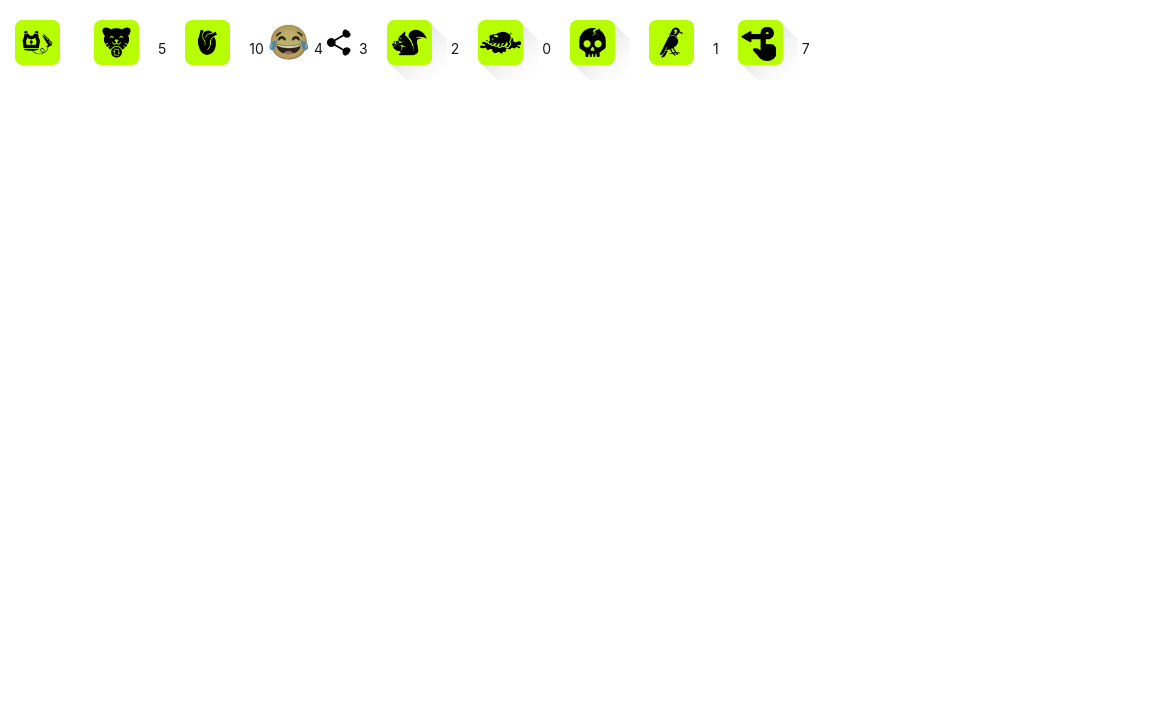
Test: PostActions › closes slop modal when backdrop is clicked
Click the button titled "Mark as Slop" at (501, 42), box [463,5,538,80]
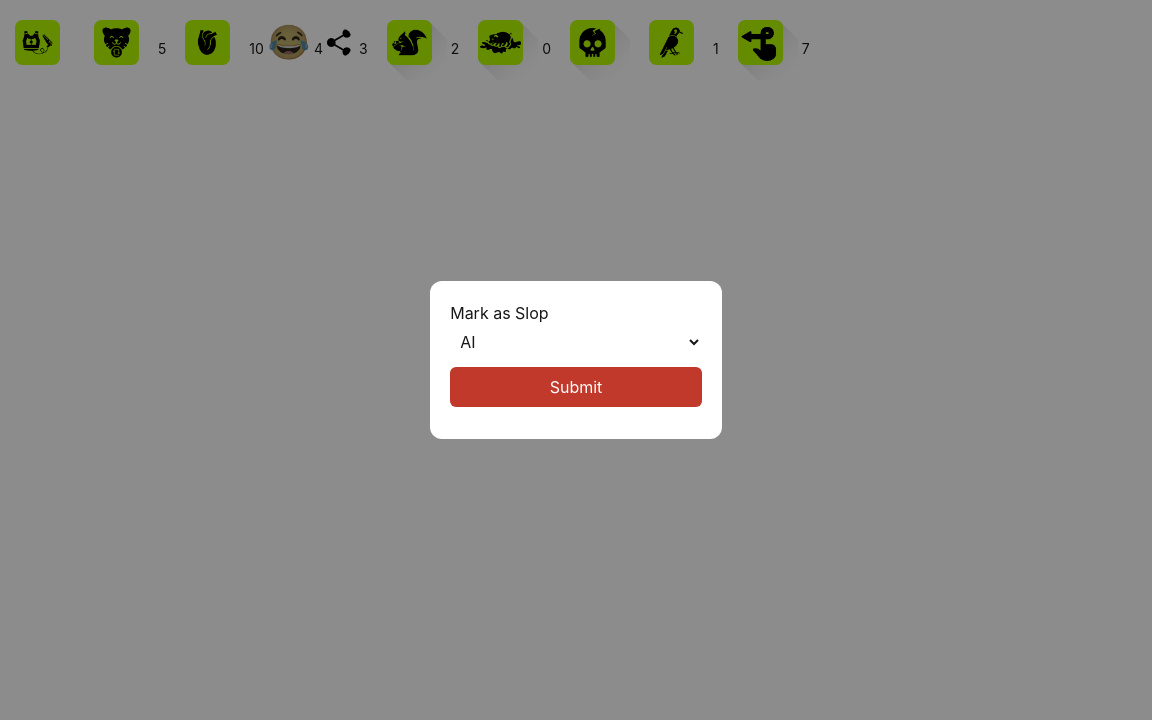
Expected: the heading "Mark as Slop" is shown, [450,303,549,323]
// Click the backdrop (the outer fixed div)
Press the mouse on the text "Mark as Slop" at (576, 360), box [0,0,1151,719]
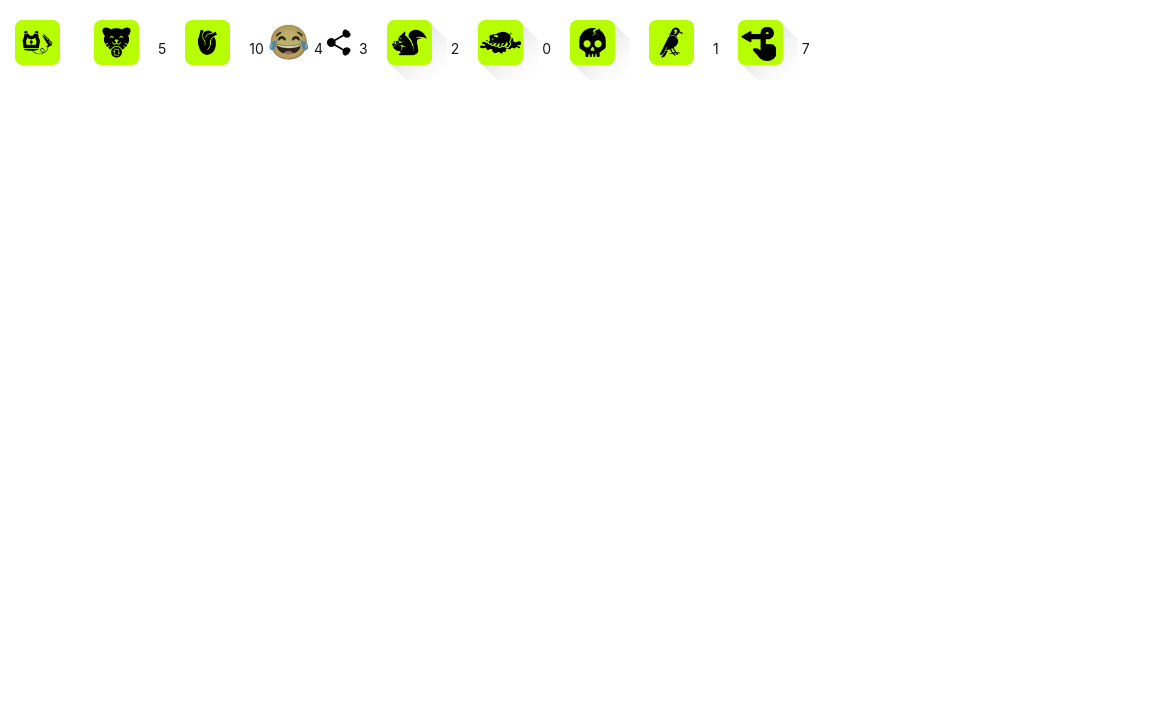
Expected: the button "Submit" is gone
